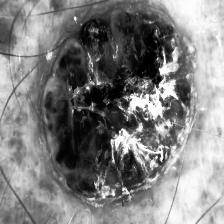Benign Marking or Mole: (41, 6, 197, 203)
